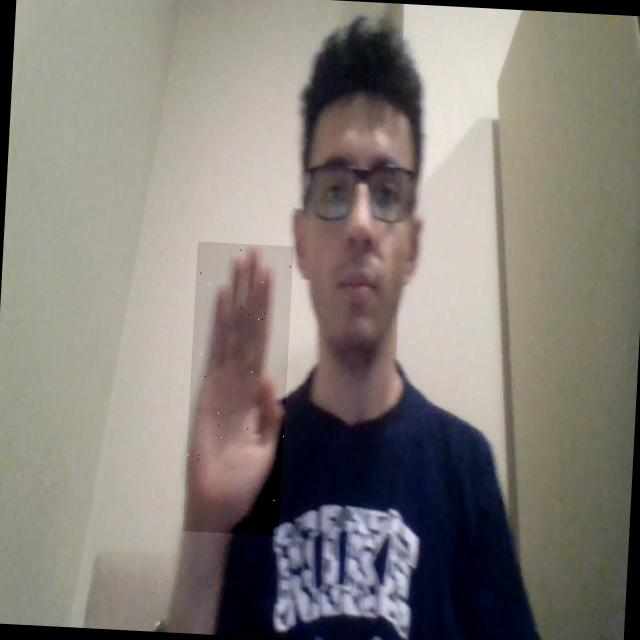hello: (183, 242, 294, 536)
